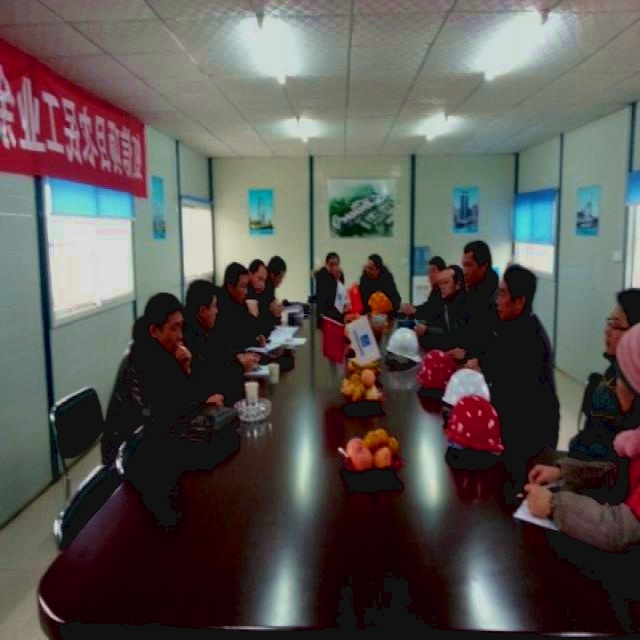Sin_Casco_Mascarrilla: (495, 263, 537, 323), (187, 276, 218, 333)
